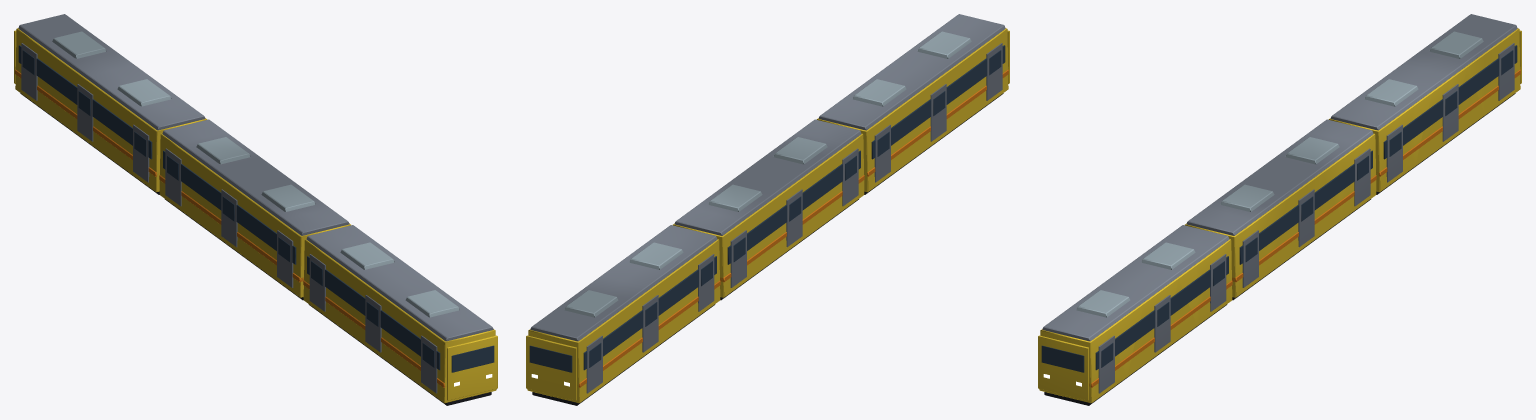
File: ginza_train.glb
The picture shows the model from 3 angles, left to right: view 1: azimuth 30°, elevation 25°; view 2: azimuth 150°, elevation 25°; view 3: azimuth 330°, elevation 25°; orthographic projection.
Parts seen in each view (by area): view 1: ginza_train; view 2: ginza_train; view 3: ginza_train.
Part boxes in pixels (x1=…): ginza_train: x1=14, y1=14, x2=497, y2=405; ginza_train: x1=526, y1=14, x2=1009, y2=405; ginza_train: x1=1038, y1=14, x2=1521, y2=405.
Size of the model in its own units: 2.74 by 3.44 by 37.4.
